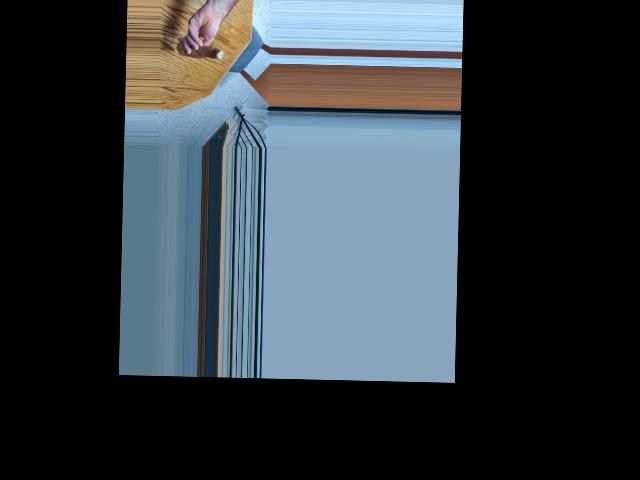sweet_potato: (177, 38, 225, 61)
